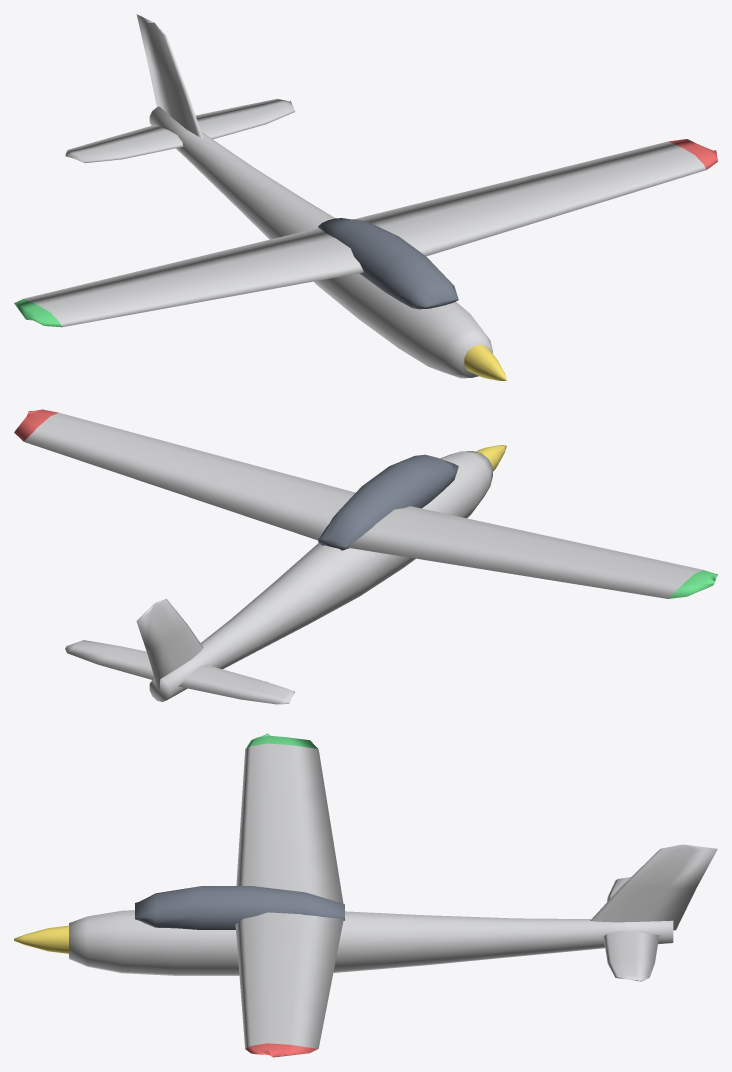
Rendered from uav-plane.glb.
3 views of the same model, one above another, from view 1: azimuth 30°, elevation 25°; view 2: azimuth 150°, elevation 25°; view 3: azimuth 270°, elevation 25° (orthographic). The views are drawn at different scales.
Visible parts, largest first — view 1: part3, part1, part4, part0, part2; view 2: part3, part1, part0, part2; view 3: part3, part1, part4, part2, part0.
Part boxes in pixels (x1=…): part3: x1=24, y1=14, x2=706, y2=378; part1: x1=318, y1=218, x2=458, y2=309; part4: x1=464, y1=344, x2=506, y2=380; part0: x1=14, y1=298, x2=61, y2=327; part2: x1=668, y1=139, x2=717, y2=169; part3: x1=24, y1=412, x2=702, y2=704; part1: x1=318, y1=454, x2=458, y2=550; part0: x1=668, y1=570, x2=717, y2=598; part2: x1=14, y1=409, x2=58, y2=441; part3: x1=69, y1=743, x2=717, y2=1048; part1: x1=135, y1=886, x2=344, y2=929; part4: x1=14, y1=925, x2=68, y2=953; part2: x1=245, y1=1043, x2=317, y2=1057; part0: x1=245, y1=733, x2=317, y2=748.
Size of the model in its own units: 1.9 by 0.3533 by 1.77.
